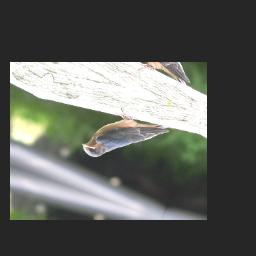Swallow: (78, 99, 173, 178)
